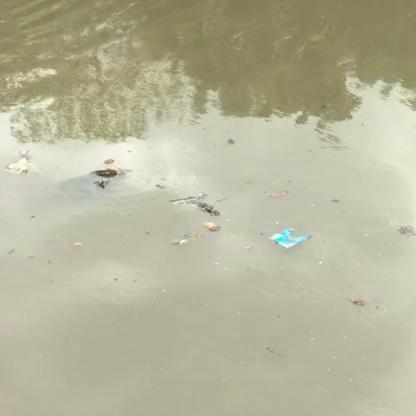Trash: (269, 225, 310, 252), (6, 154, 34, 179), (200, 218, 219, 236)
